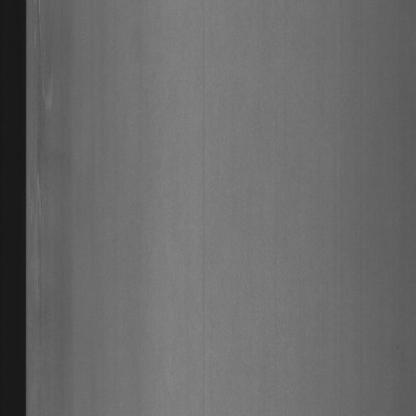silk_spot: (29, 4, 52, 270)
